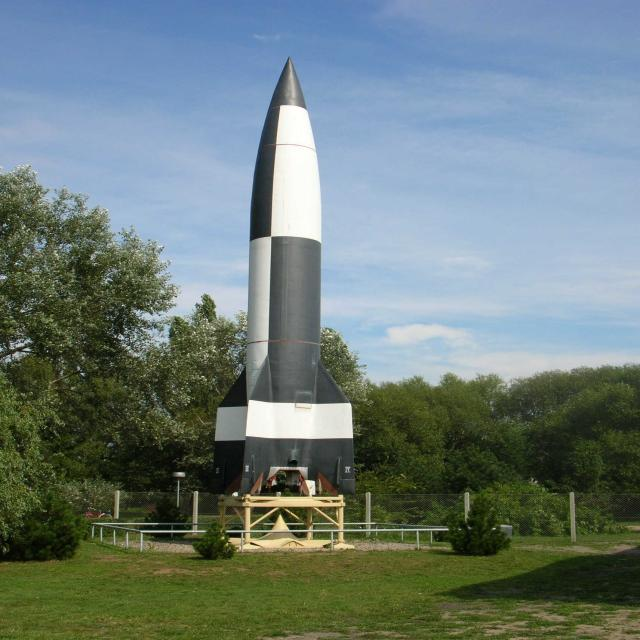missile: (210, 53, 363, 495)
